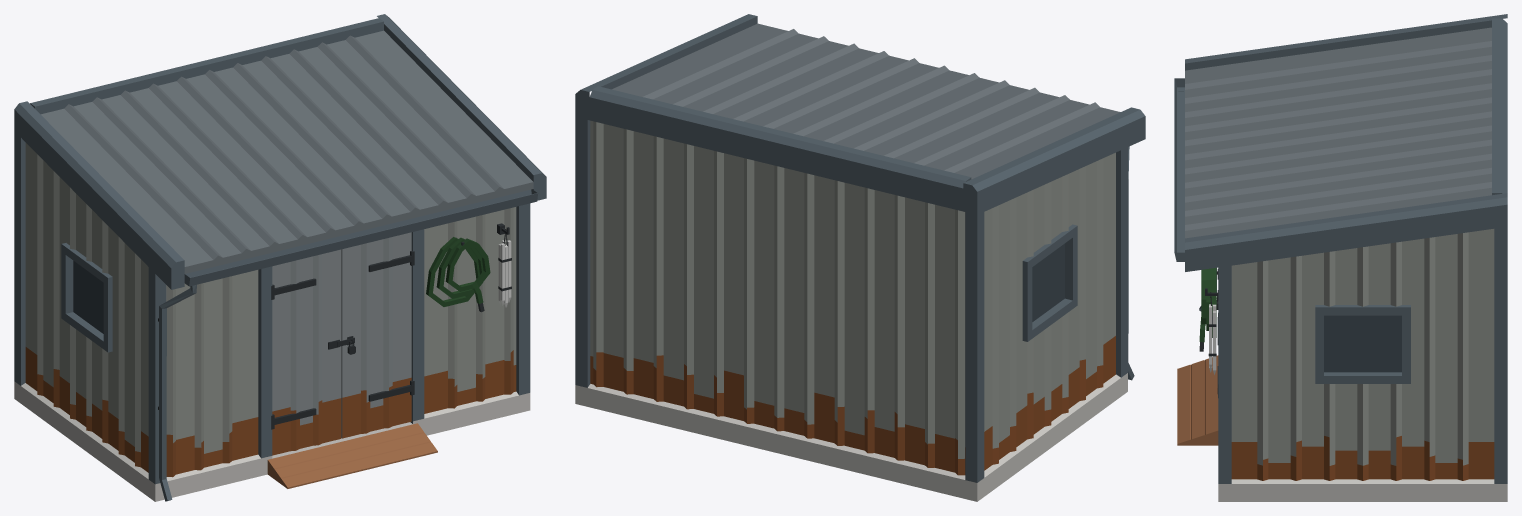
The model's file is groundsman-s-store-shed-5b6996.glb.
The picture shows the model from 3 angles, left to right: view 1: azimuth 30°, elevation 25°; view 2: azimuth 150°, elevation 25°; view 3: azimuth 270°, elevation 25°; orthographic projection. The views are drawn at different scales.
Visible parts, largest first — view 1: shed-body, door-r-mesh, door-l-mesh, hose-mesh, line-pegs-mesh; view 2: shed-body; view 3: shed-body, hose-mesh, line-pegs-mesh.
Part boxes in pixels (left/top/right/bottom): shed-body: left=14, top=14, right=546, bottom=501; door-r-mesh: left=341, top=232, right=414, bottom=438; door-l-mesh: left=271, top=249, right=354, bottom=455; hose-mesh: left=426, top=237, right=490, bottom=312; line-pegs-mesh: left=498, top=229, right=511, bottom=307; shed-body: left=575, top=14, right=1145, bottom=501; shed-body: left=1174, top=14, right=1507, bottom=501; hose-mesh: left=1199, top=268, right=1216, bottom=351; line-pegs-mesh: left=1208, top=292, right=1216, bottom=374.
Size of the model in its own units: 4 by 3 by 3.
